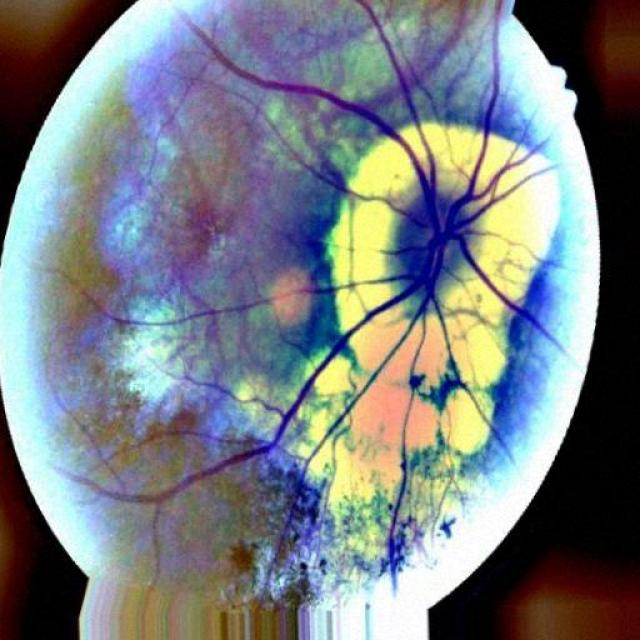Nerves: (190, 0, 558, 481)
